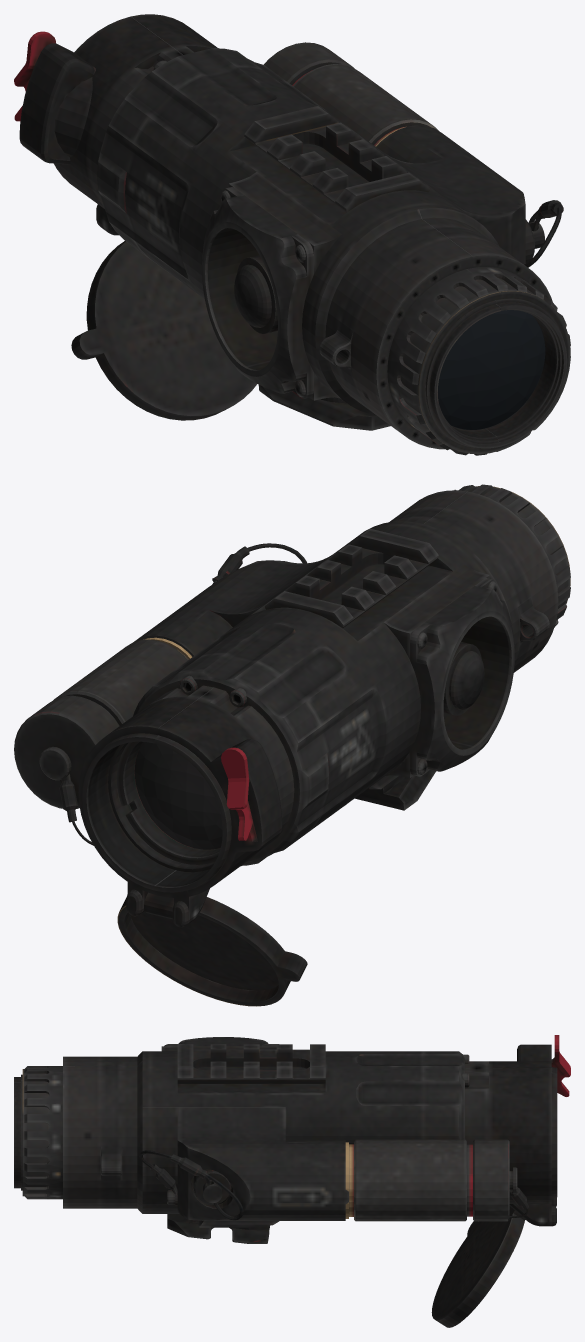
The picture shows the model from 3 angles, top to bottom: view 1: azimuth 30°, elevation 25°; view 2: azimuth 150°, elevation 25°; view 3: azimuth 270°, elevation 25°; orthographic projection. The views are drawn at different scales.
Parts seen in each view (by area): view 1: TW_5a1eaa87fcdbcb001865f75e_PZ_Import; view 2: TW_5a1eaa87fcdbcb001865f75e_PZ_Import; view 3: TW_5a1eaa87fcdbcb001865f75e_PZ_Import.
Boxes of the visible parts, x1,y1,x2,y2 form: TW_5a1eaa87fcdbcb001865f75e_PZ_Import: (14, 14, 570, 455); TW_5a1eaa87fcdbcb001865f75e_PZ_Import: (14, 484, 570, 1006); TW_5a1eaa87fcdbcb001865f75e_PZ_Import: (14, 1035, 570, 1327).
Bounding box in the file's own units: 0.044 × 0.0973 × 0.051.
1 material, 1 textured.
